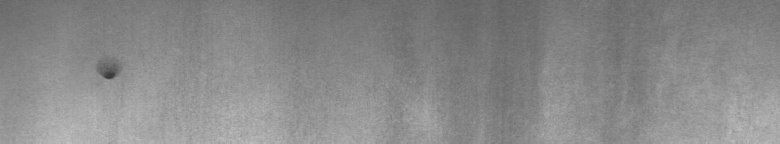fi: (96, 64, 124, 88)
